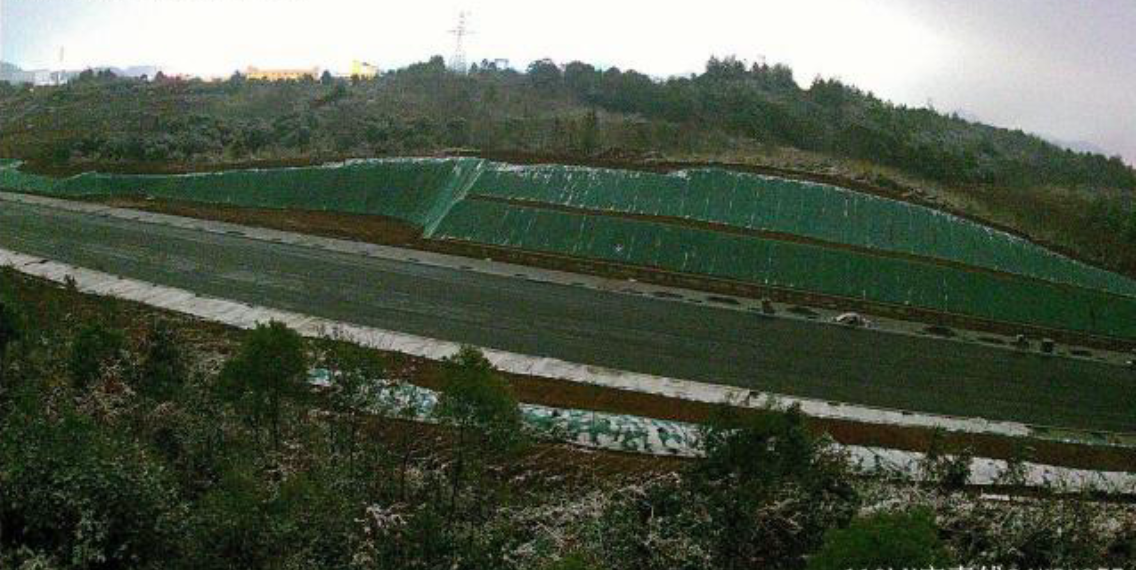绿膜: (478, 156, 1135, 345), (0, 157, 481, 226), (417, 224, 486, 243)
